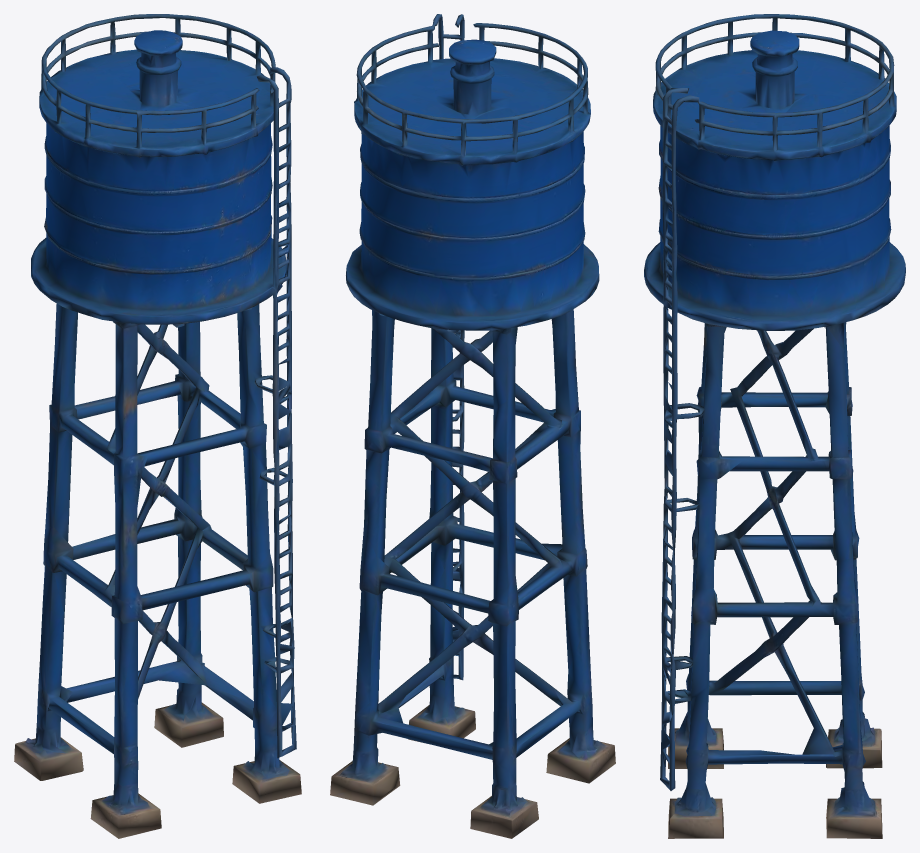
File: tower.glb
The picture shows the model from 3 angles, left to right: view 1: azimuth 30°, elevation 25°; view 2: azimuth 150°, elevation 25°; view 3: azimuth 270°, elevation 25°; orthographic projection. The views are drawn at different scales.
Parts seen in each view (by area): view 1: tripo_node_82f633ba-b80f-4510-8a62-a803337ea9cd; view 2: tripo_node_82f633ba-b80f-4510-8a62-a803337ea9cd; view 3: tripo_node_82f633ba-b80f-4510-8a62-a803337ea9cd.
Boxes of the visible parts, x1=… form: tripo_node_82f633ba-b80f-4510-8a62-a803337ea9cd: x1=14, y1=14, x2=301, y2=838; tripo_node_82f633ba-b80f-4510-8a62-a803337ea9cd: x1=330, y1=14, x2=615, y2=838; tripo_node_82f633ba-b80f-4510-8a62-a803337ea9cd: x1=644, y1=14, x2=905, y2=838.
Bounding box in the file's own units: 0.3154 × 1 × 0.3152.
Materials: 1 (1 with a texture image).
